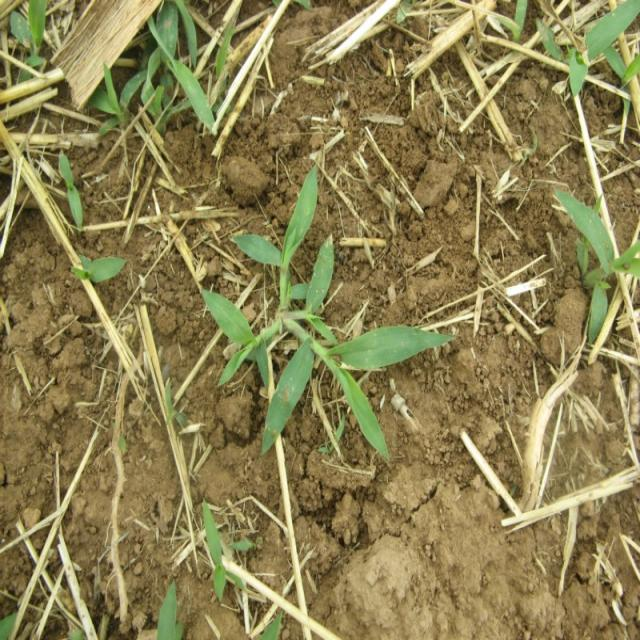bg: (204, 172, 457, 463)
